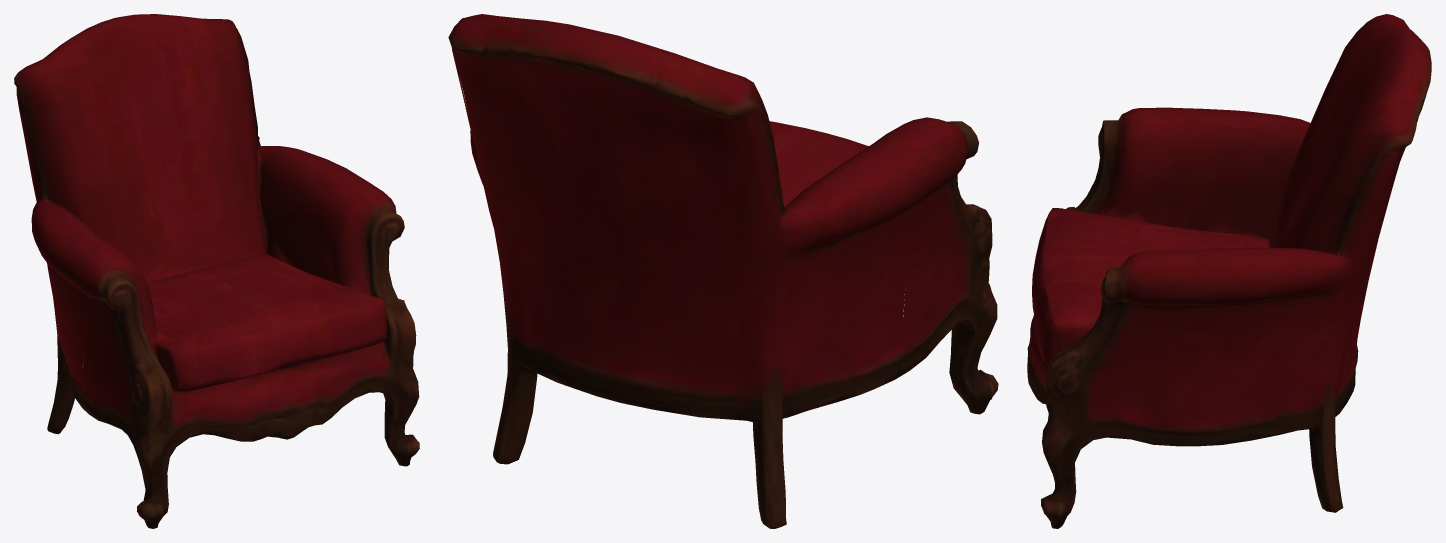
The model's file is sillon_burdeo.glb.
The picture shows the model from 3 angles, left to right: view 1: azimuth 30°, elevation 25°; view 2: azimuth 150°, elevation 25°; view 3: azimuth 270°, elevation 25°; orthographic projection. The views are drawn at different scales.
Visible parts, largest first — view 1: geometry_0; view 2: geometry_0; view 3: geometry_0.
Part boxes in pixels (x1,y1,x2,y2): geometry_0: (14, 14, 419, 528); geometry_0: (448, 14, 998, 528); geometry_0: (1027, 14, 1431, 528).
Bounding box in the file's own units: 0.85 × 0.95 × 0.85.
1 material, 1 textured.
